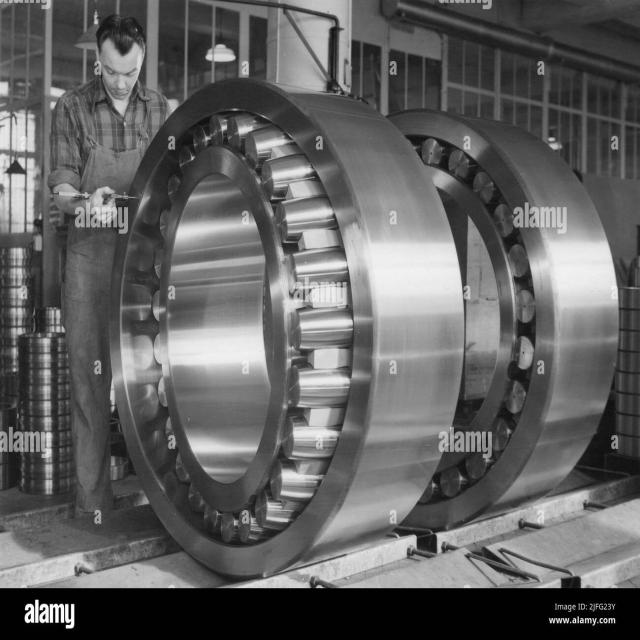Bearing: (106, 76, 467, 580), (383, 106, 624, 533)
